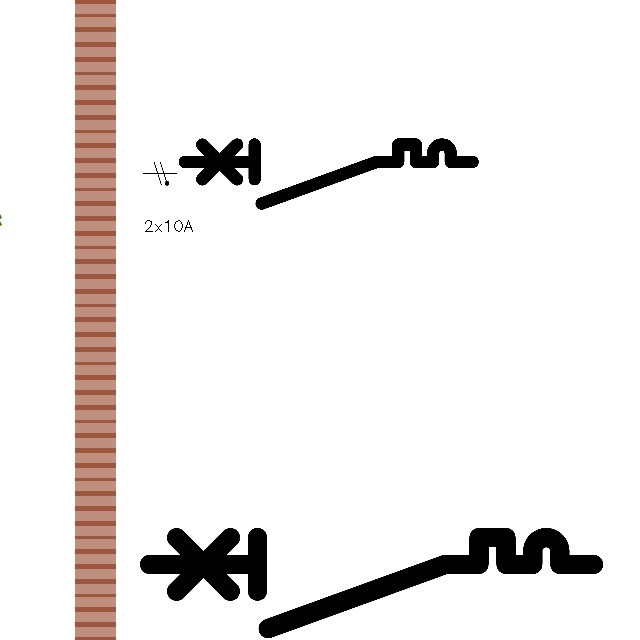interruptor_termomagnetico: (138, 526, 605, 640), (177, 137, 480, 211)
